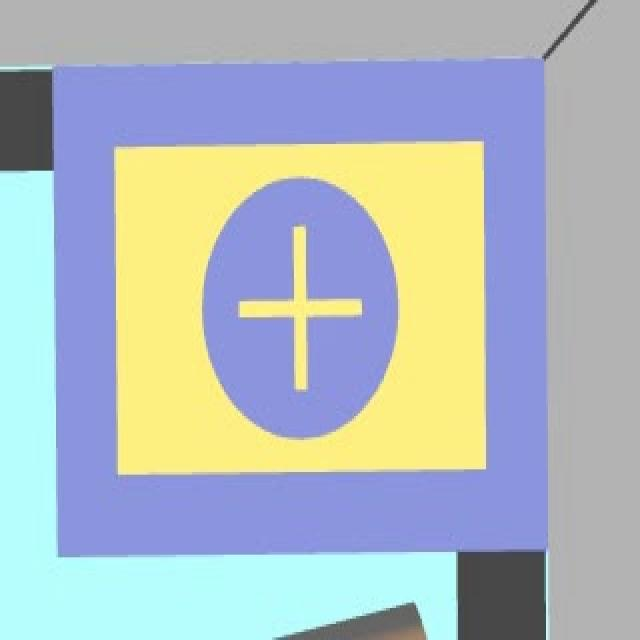Yellow-crosses: (223, 225, 379, 404)
